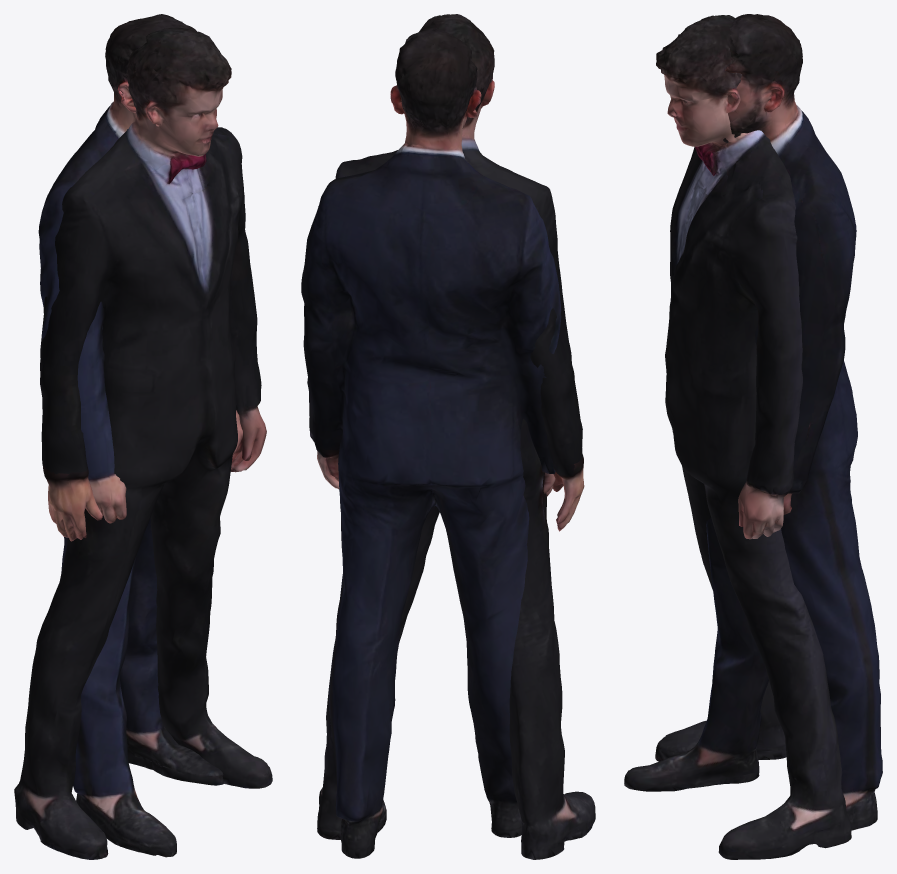
Rendered from emberek.glb.
The picture shows the model from 3 angles, left to right: view 1: azimuth 30°, elevation 25°; view 2: azimuth 150°, elevation 25°; view 3: azimuth 270°, elevation 25°; orthographic projection.
Parts seen in each view (by area): view 1: ferfi_fekete, ferfi_sotetkek; view 2: ferfi_sotetkek, ferfi_fekete; view 3: ferfi_fekete, ferfi_sotetkek.
Boxes of the visible parts, left/top/right/bottom form: ferfi_fekete: left=14, top=27, right=272, bottom=859; ferfi_sotetkek: left=38, top=14, right=242, bottom=857; ferfi_sotetkek: left=301, top=28, right=561, bottom=858; ferfi_fekete: left=309, top=14, right=595, bottom=859; ferfi_fekete: left=655, top=15, right=851, bottom=859; ferfi_sotetkek: left=624, top=14, right=882, bottom=830.
Bounding box in the file's own units: 0.5868 × 1.79 × 0.5317.
1 material, 1 textured.
